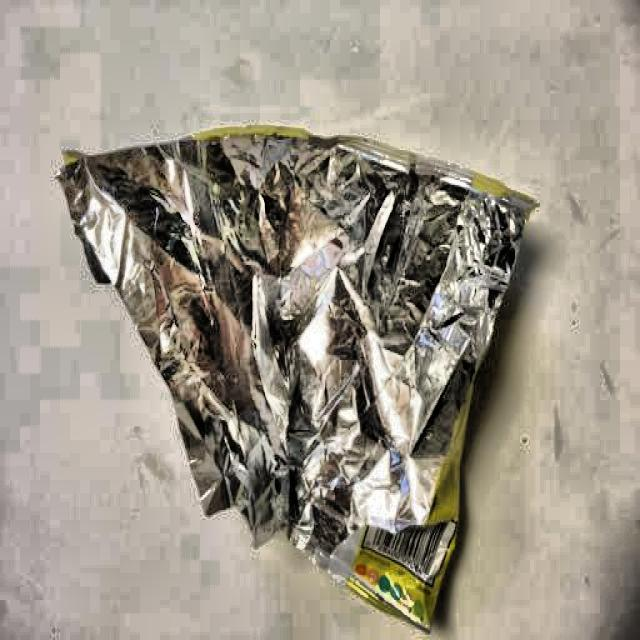trash: (48, 126, 527, 619)
